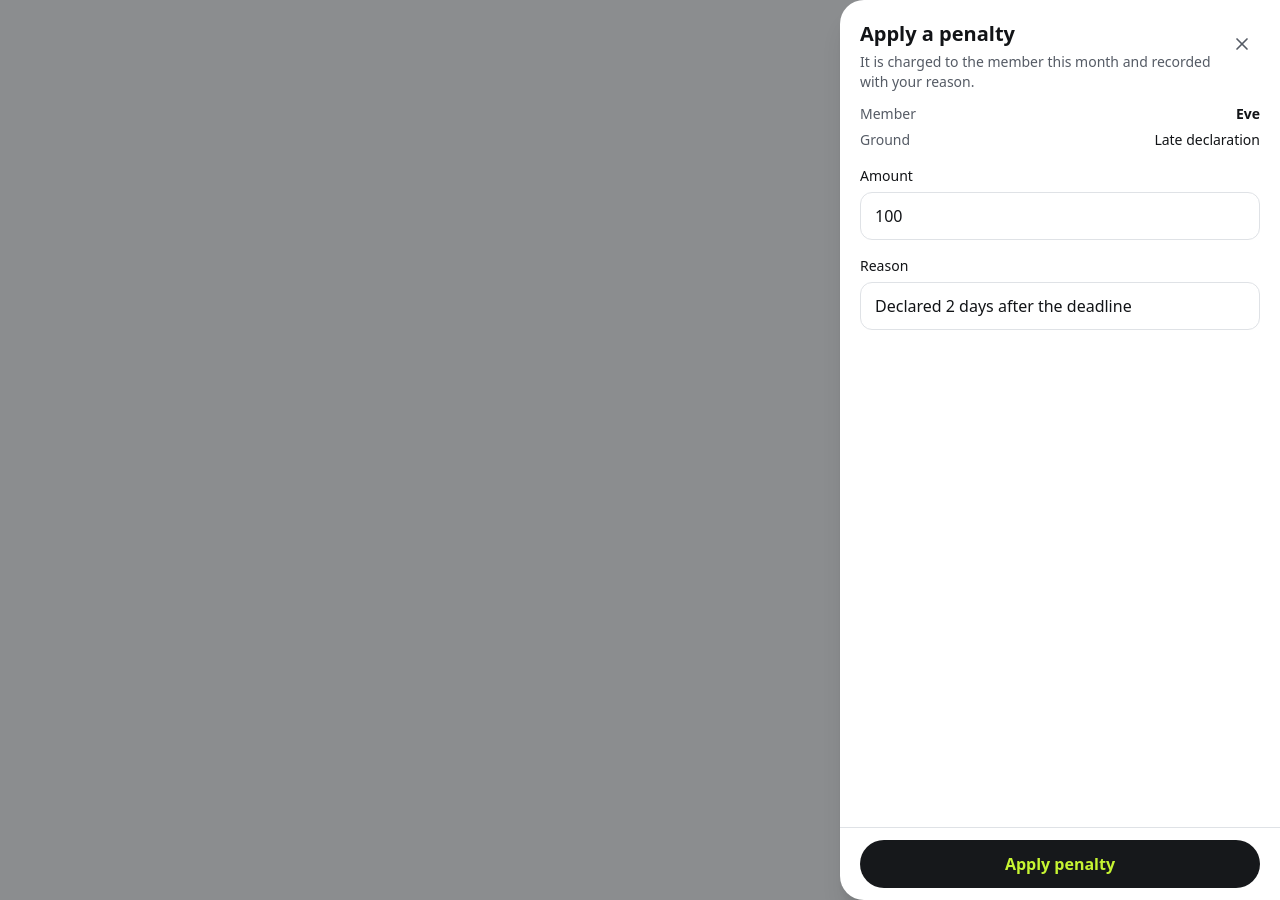
Test case: a refusal shows the friendly sentence and keeps the sheet open
Click the button "Apply penalty": [1060, 864] box [860,840,1260,888]
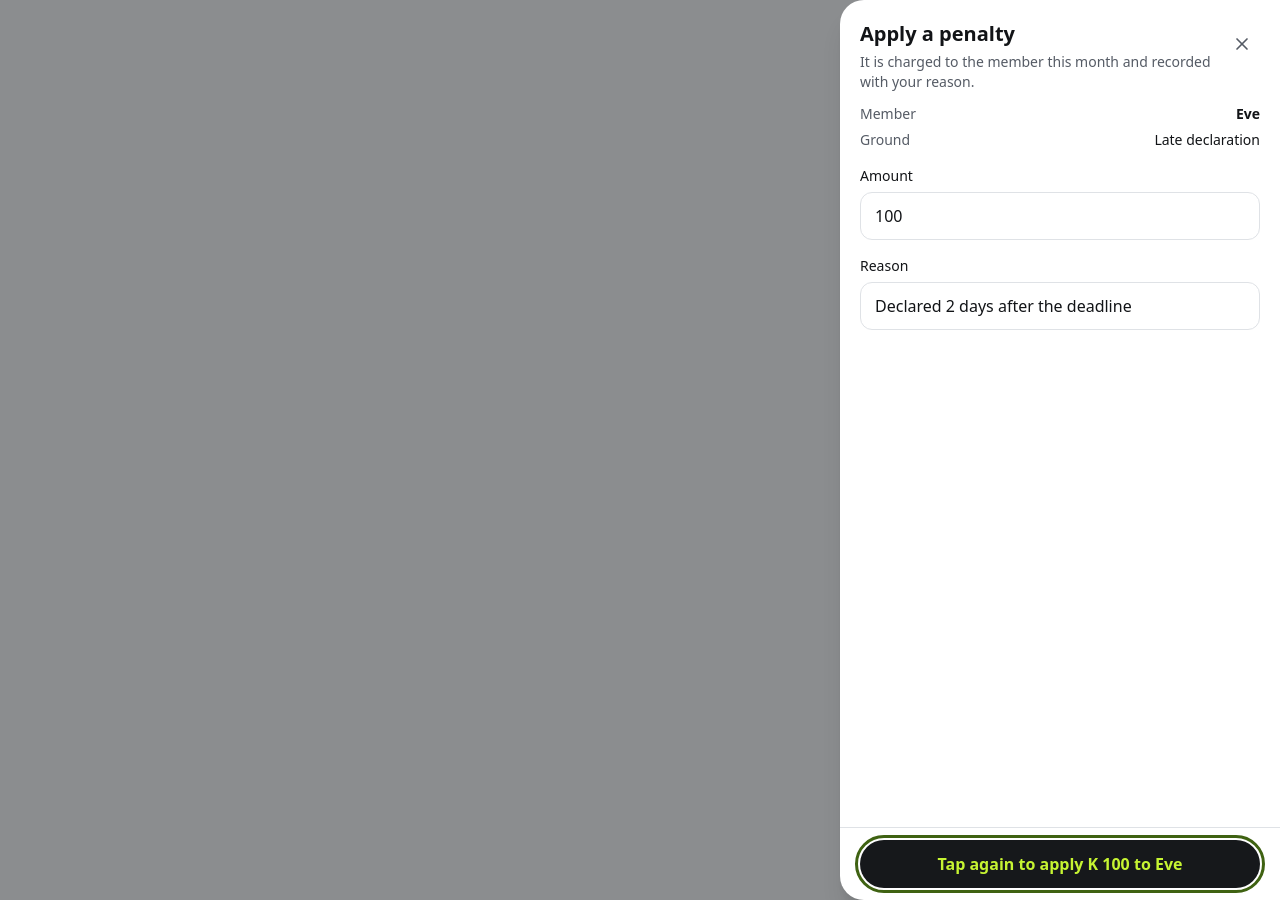
Click the button "Tap again to apply K 100 to Eve": [1060, 864] box [860,840,1260,888]
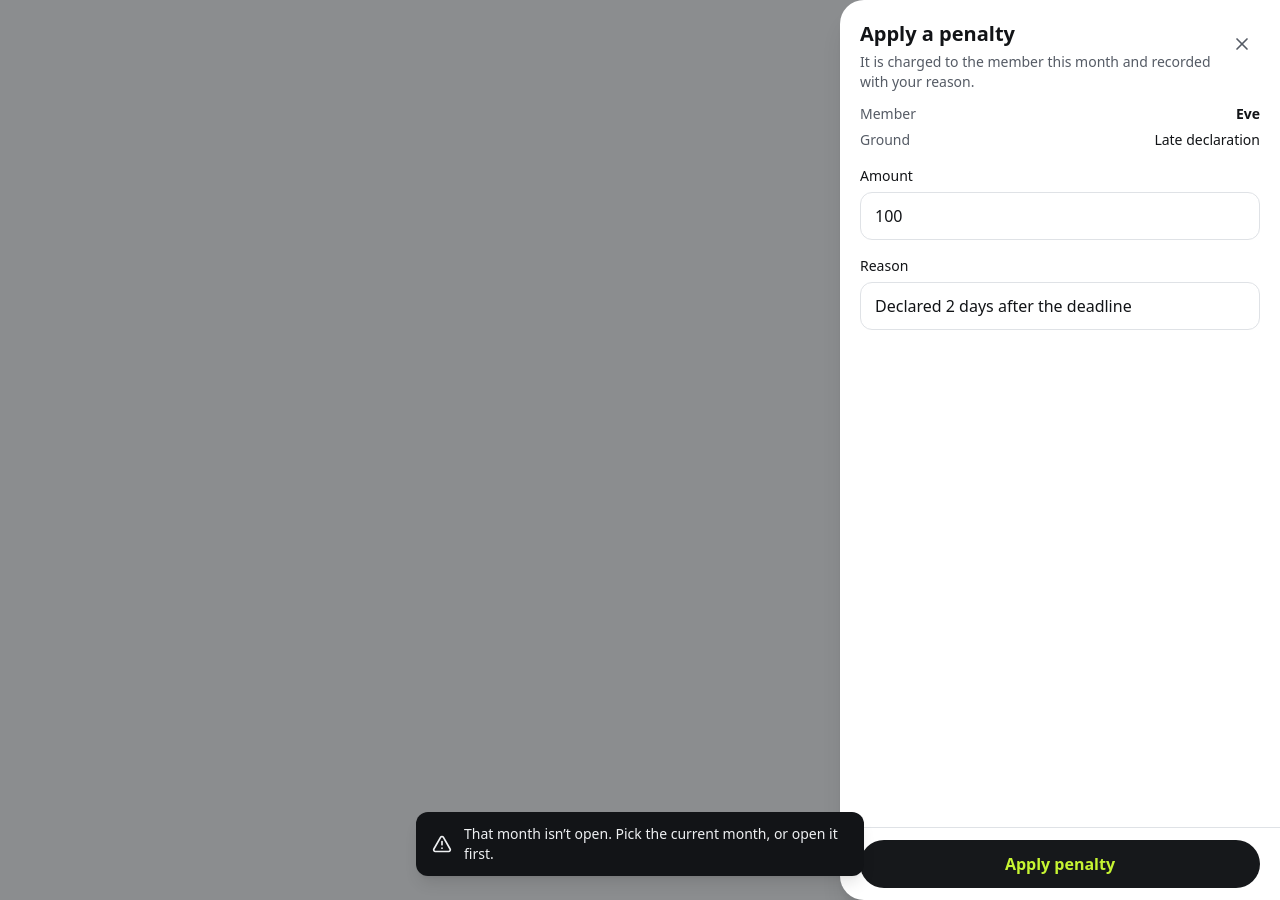
Expected: the text "That month isn’t open. Pick the current month, or open it first." is shown, [464,824,848,864]
